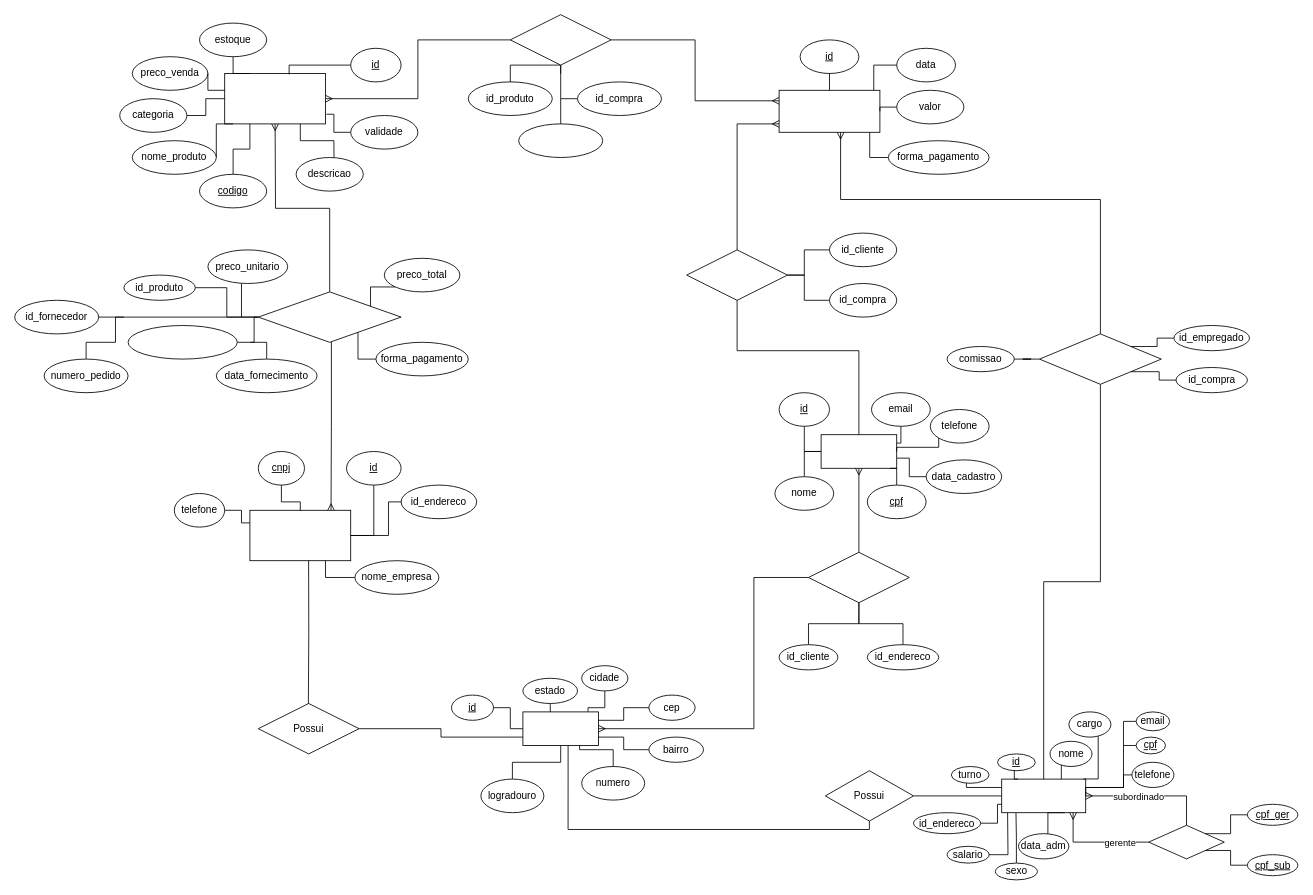
Some shapes in this 1313 by 895 pixel diagram are drawn without their labels. The shapes that lost their labels are listed below. From the top down, each one's centre as x and y in pixels, then its label:
At pixel 560 39: "compra_produto".
At pixel 275 98: "Produto".
At pixel 829 110: "Compra".
At pixel 560 140: "quantidade".
At pixel 737 274: "cliente_compra".
At pixel 329 316: "fornecedor_produto".
At pixel 182 342: "quantidade_fornecida".
At pixel 1100 358: "empregado_compra".
At pixel 858 451: "Cliente".
At pixel 300 535: "Fornecedor".
At pixel 858 577: "cliente_endereco".
At pixel 560 728: "Endereço".
At pixel 1043 795: "Empregado".
At pixel 1186 841: "Gerencia".
